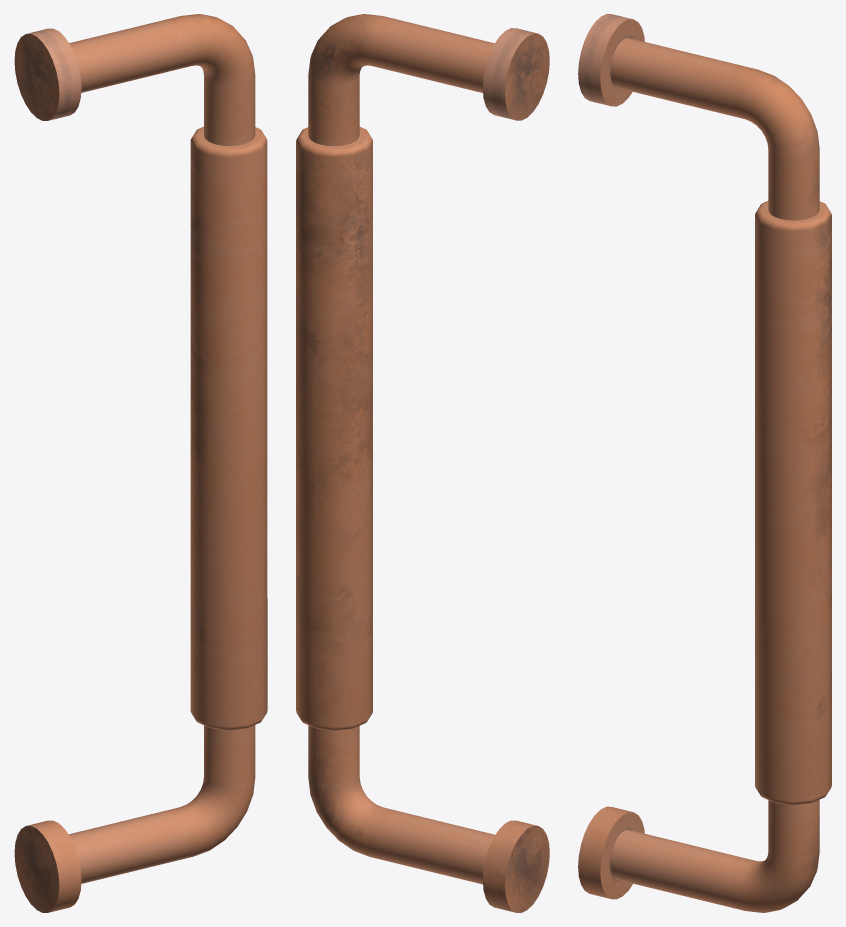
The model's file is Handle_Copper1.glb.
The picture shows the model from 3 angles, left to right: view 1: azimuth 30°, elevation 25°; view 2: azimuth 150°, elevation 25°; view 3: azimuth 330°, elevation 25°; orthographic projection.
Parts seen in each view (by area): view 1: Handle_2; view 2: Handle_2; view 3: Handle_2.
Part boxes in pixels (x1=…): Handle_2: x1=14, y1=14, x2=267, y2=912; Handle_2: x1=296, y1=14, x2=549, y2=912; Handle_2: x1=578, y1=14, x2=831, y2=912.
Size of the model in its own units: 0.1595 by 0.5896 by 0.0549.
1 material, 1 textured.
